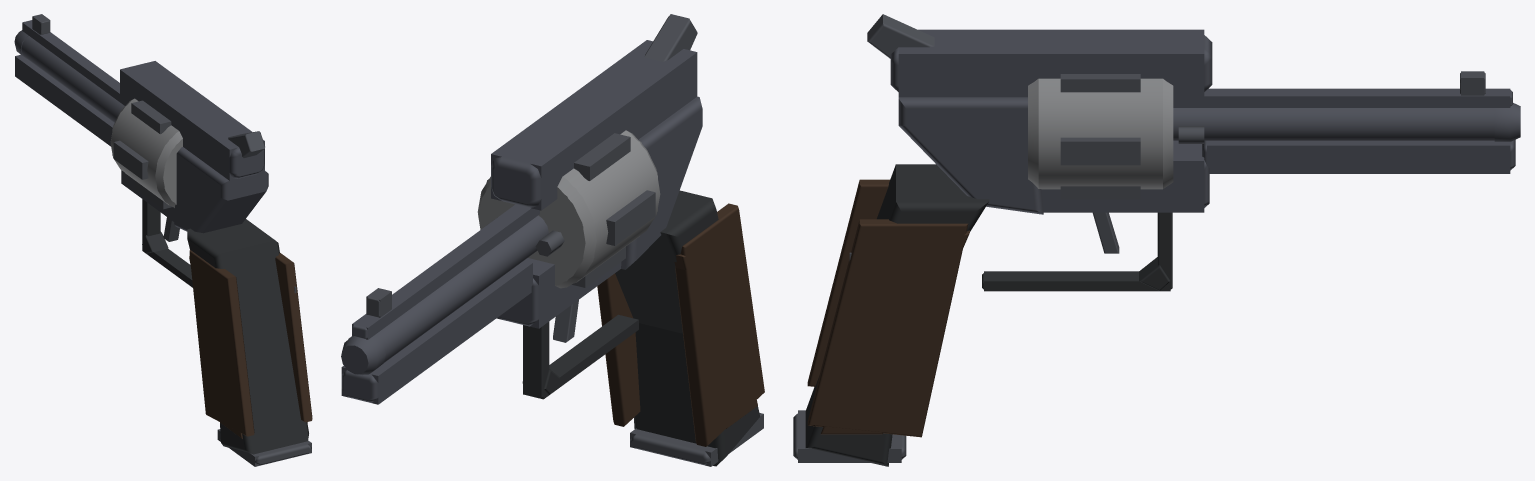
The model's file is revolver.glb.
3 views of the same model, side by side, from view 1: azimuth 30°, elevation 25°; view 2: azimuth 150°, elevation 25°; view 3: azimuth 270°, elevation 25° (orthographic). The views are drawn at different scales.
Visible parts, largest first — view 1: L0, L1; view 2: L0, L1; view 3: L0, L1.
Part boxes in pixels (box(x1,y1,x2,y2)): L0: box(14, 14, 312, 465); L1: box(15, 14, 311, 466); L0: box(341, 14, 764, 466); L1: box(341, 40, 763, 466); L0: box(793, 14, 1520, 466); L1: box(798, 29, 1520, 462).
Bounding box in the file's own units: 0.058 × 0.183 × 0.2806.
